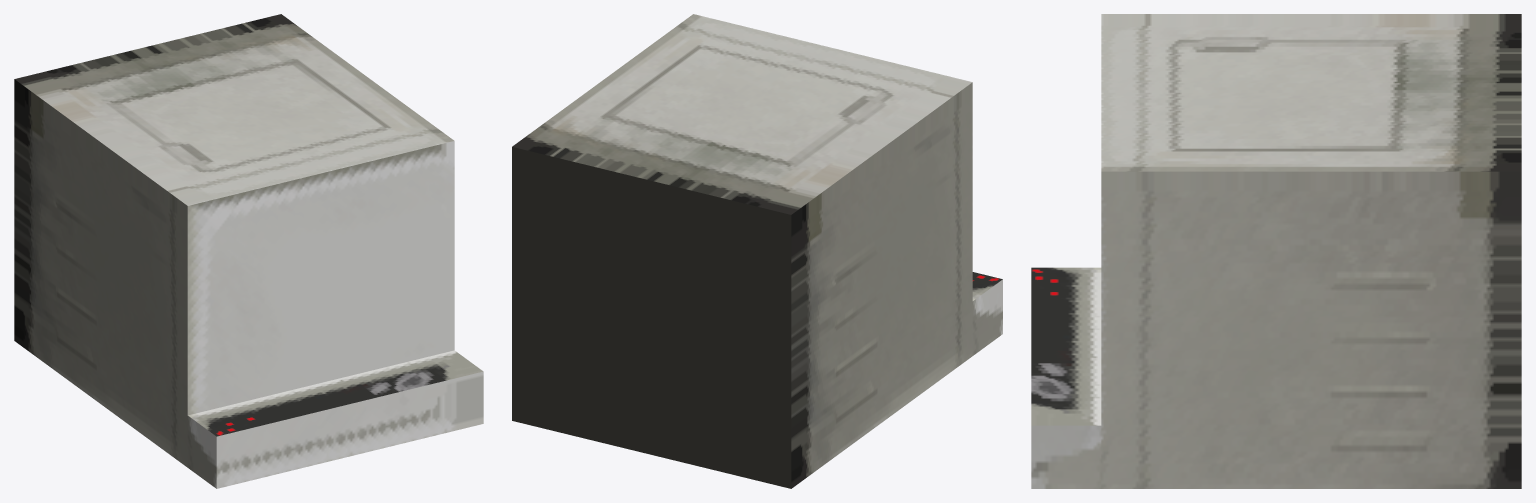
The model's file is pz_g016_white_clothing_dryer.obj.
3 renders of one model, left to right at view 1: azimuth 30°, elevation 25°; view 2: azimuth 150°, elevation 25°; view 3: azimuth 270°, elevation 25°, orthographic. The views are drawn at different scales.
Visible parts, largest first — view 1: native_component_0_z+, native_component_0_x-, native_component_0_y+, native_component_1_z+, native_component_1_y+, native_component_1_x-; view 2: native_component_0_z-, native_component_0_x-, native_component_0_y+, native_component_1_x-; view 3: native_component_0_x+, native_component_0_y+, native_component_1_y+, native_component_1_x+.
Part boxes in pixels (x1,y1,x2,y2): native_component_0_z+: (187,141,454,415); native_component_0_x-: (14,79,187,467); native_component_0_y+: (15,14,454,205); native_component_1_z+: (216,371,483,488); native_component_1_y+: (188,350,483,436); native_component_1_x-: (187,416,216,488); native_component_0_z-: (512,147,791,488); native_component_0_x-: (791,82,972,488); native_component_0_y+: (512,14,972,214); native_component_1_x-: (972,279,1002,355); native_component_0_x+: (1101,171,1521,488); native_component_0_y+: (1101,14,1521,171); native_component_1_y+: (1031,267,1101,425); native_component_1_x+: (1031,425,1101,488).
Size of the model in its own units: 0.8 by 0.75 by 1.05.
Materials: 1 (1 with a texture image).
